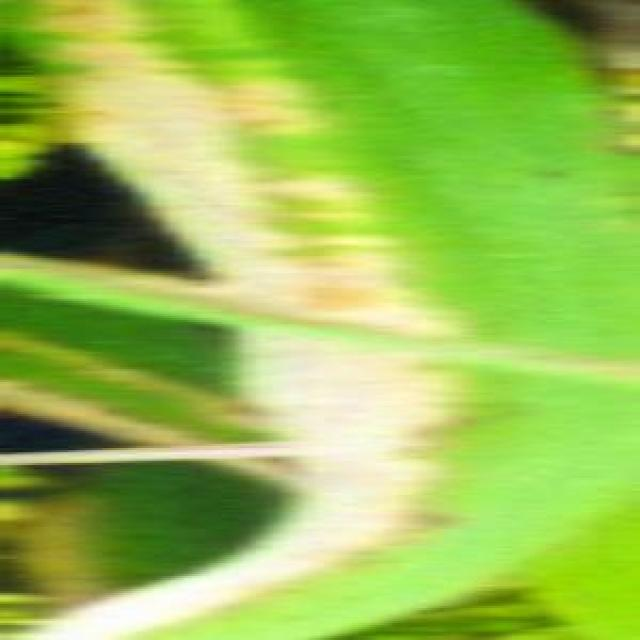Bacterial_Blight: (28, 6, 467, 640)
